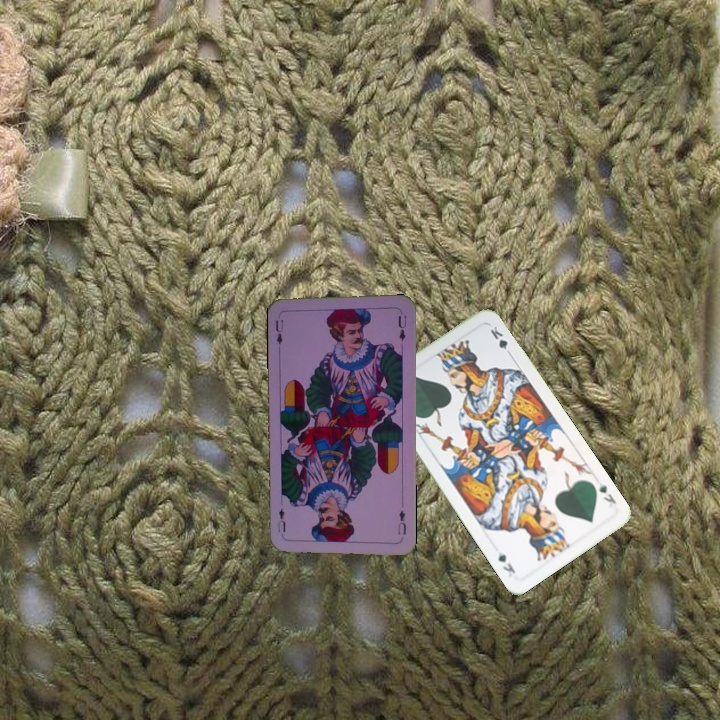EU: (271, 316, 286, 347), (394, 506, 409, 537)
GK: (592, 475, 619, 506)
